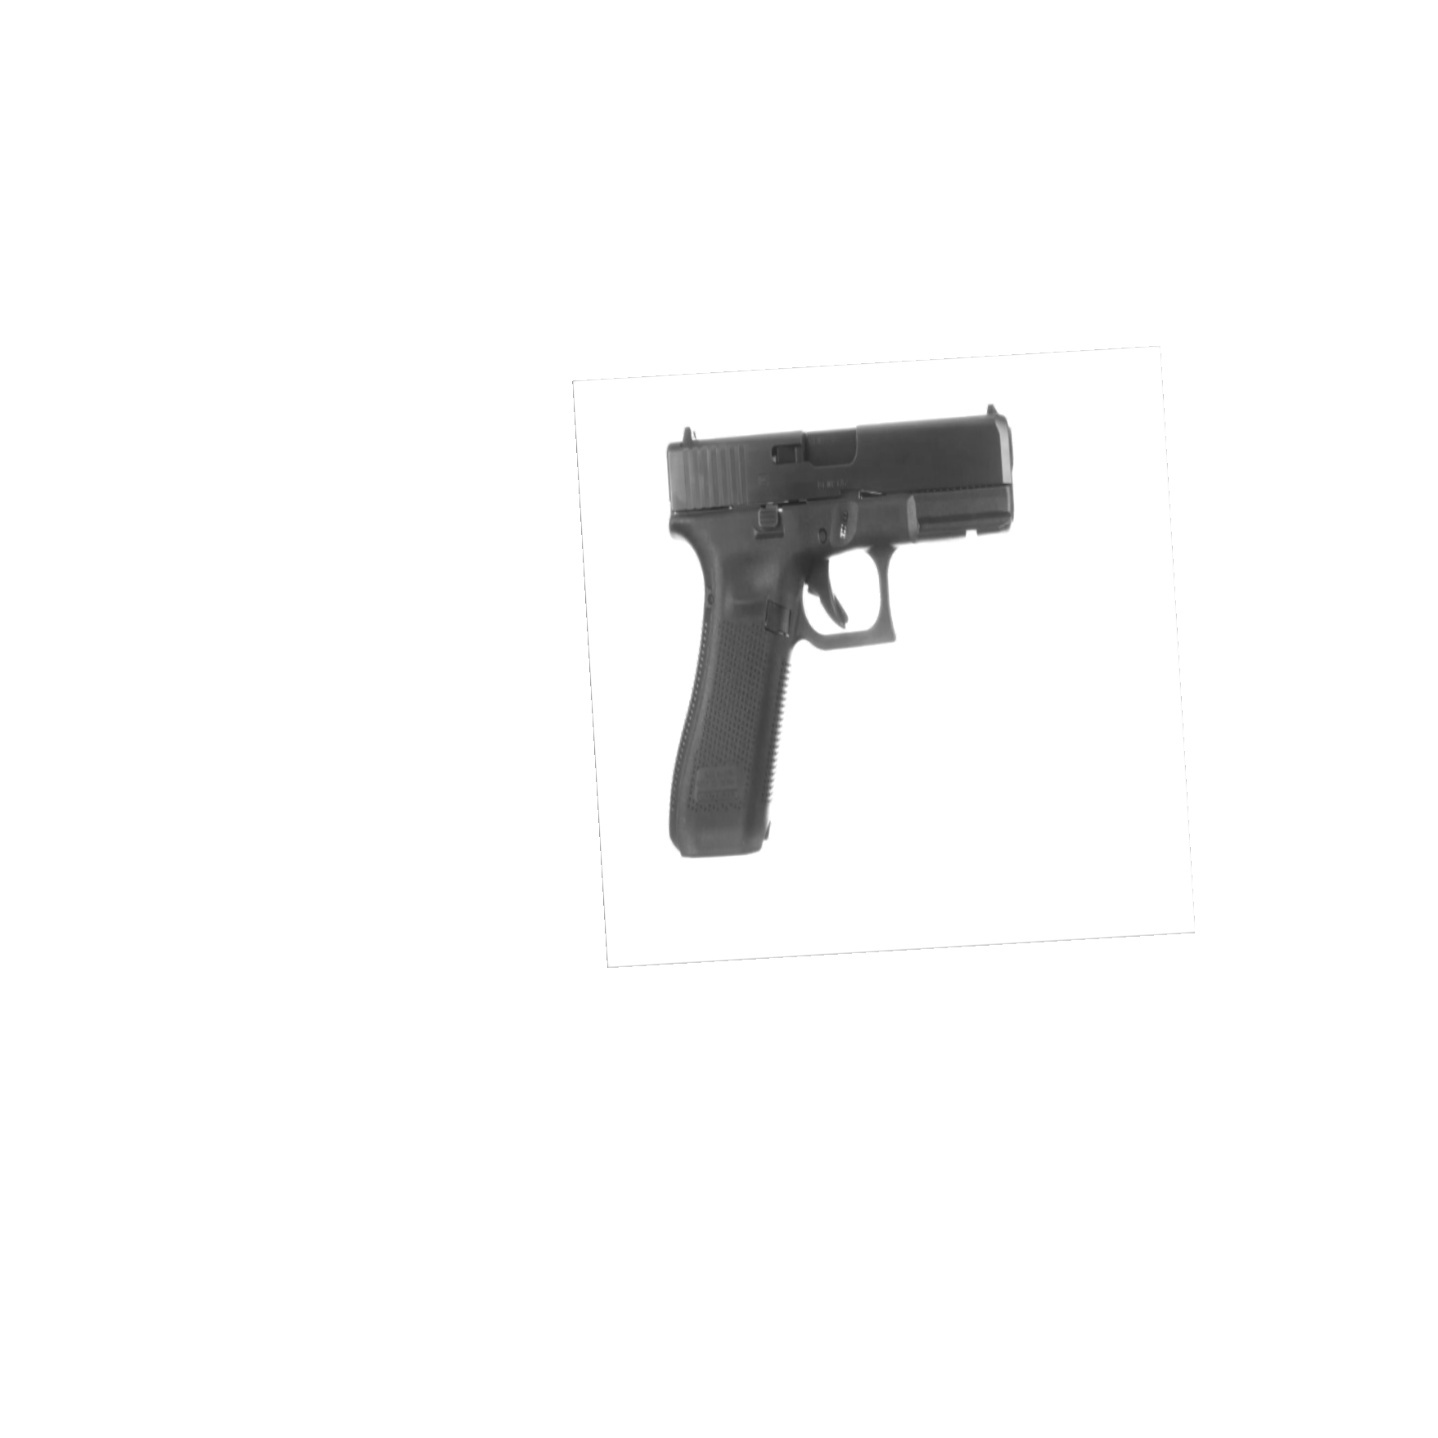gun: (666, 404, 1015, 859)
